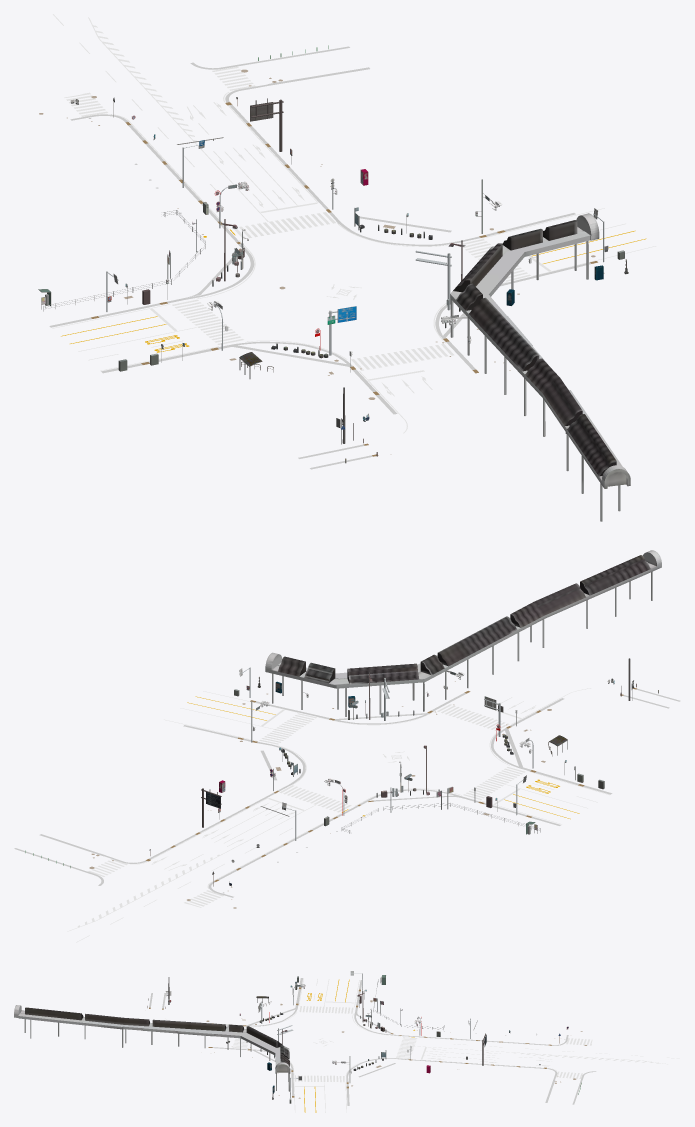
Rendered from frn--17.glb.
3 renders of one model, top to bottom at view 1: azimuth 30°, elevation 25°; view 2: azimuth 150°, elevation 25°; view 3: azimuth 270°, elevation 25°, orthographic. The views are drawn at different scales.
Bounding box in the file's own units: 88.29 × 10.16 × 186.
Materials: 2 (1 with a texture image).
